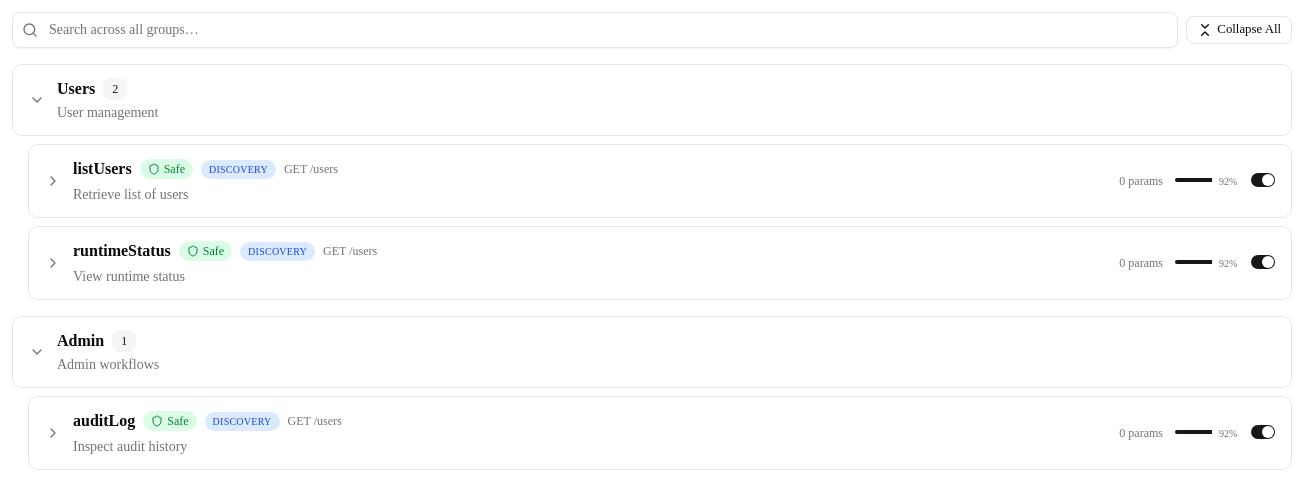
Test case: ToolGroupView › filters operations by name or description and shows the search empty state
Type "audit" into the field with placeholder "Search across all groups…" at (595, 30), box left=12, top=12, right=1178, bottom=48
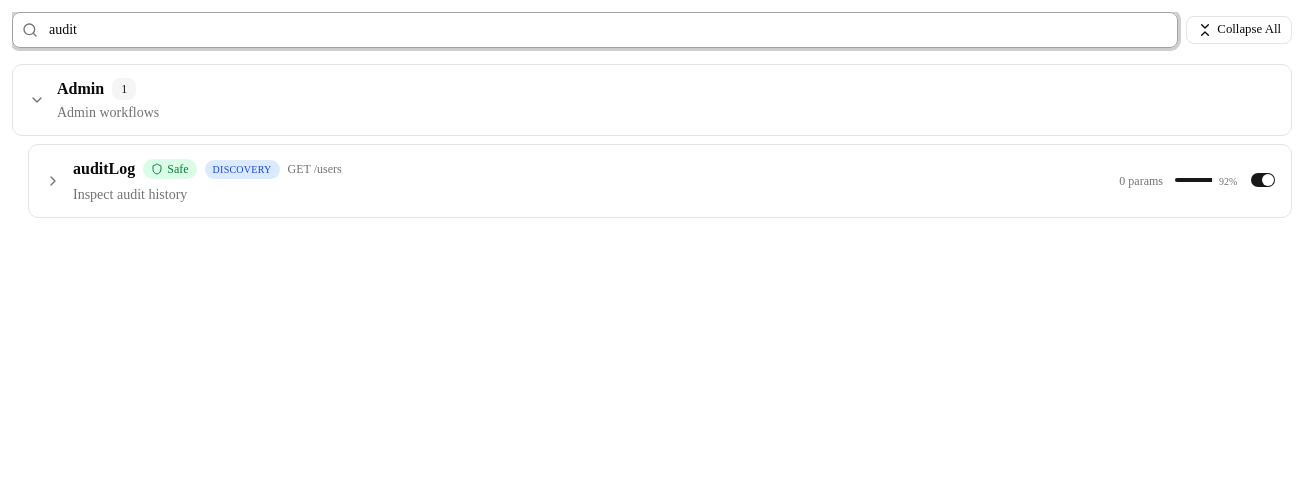
expect the text "auditLog" is shown: met, box left=73, top=157, right=135, bottom=181
expect the button "listUsers" is gone: met
Replace the text in the field with placeholder "Search across all groups…" with "runtime" at (595, 30), box left=12, top=12, right=1178, bottom=48
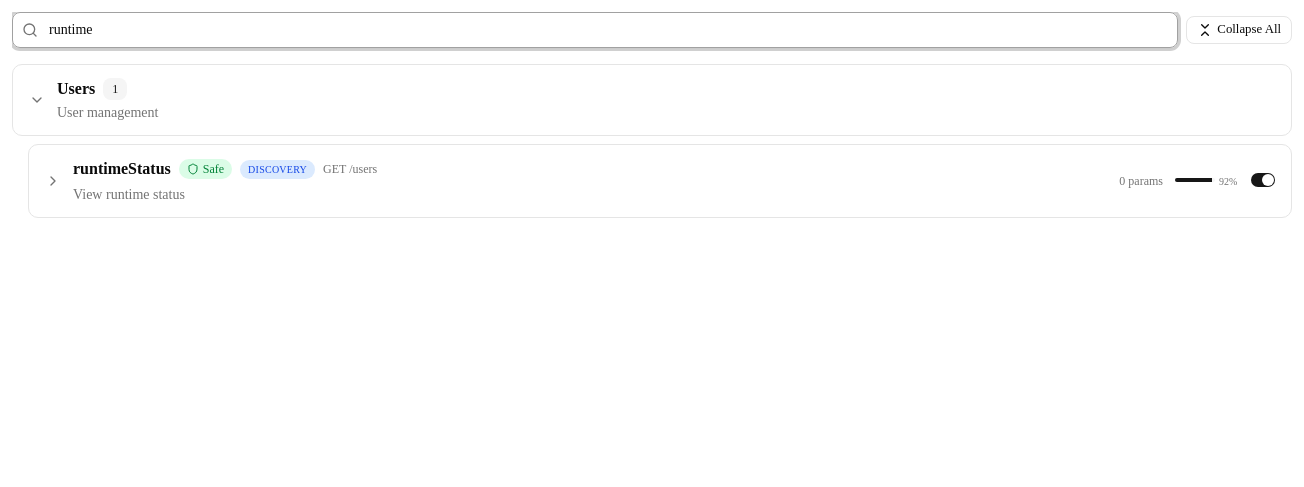
expect the button "auditLog" is not shown: met
expect the text "runtimeStatus" is shown: met, box left=73, top=157, right=171, bottom=181
Replace the text in the field with placeholder "Search across all groups…" with "missing" at (595, 30), box left=12, top=12, right=1178, bottom=48
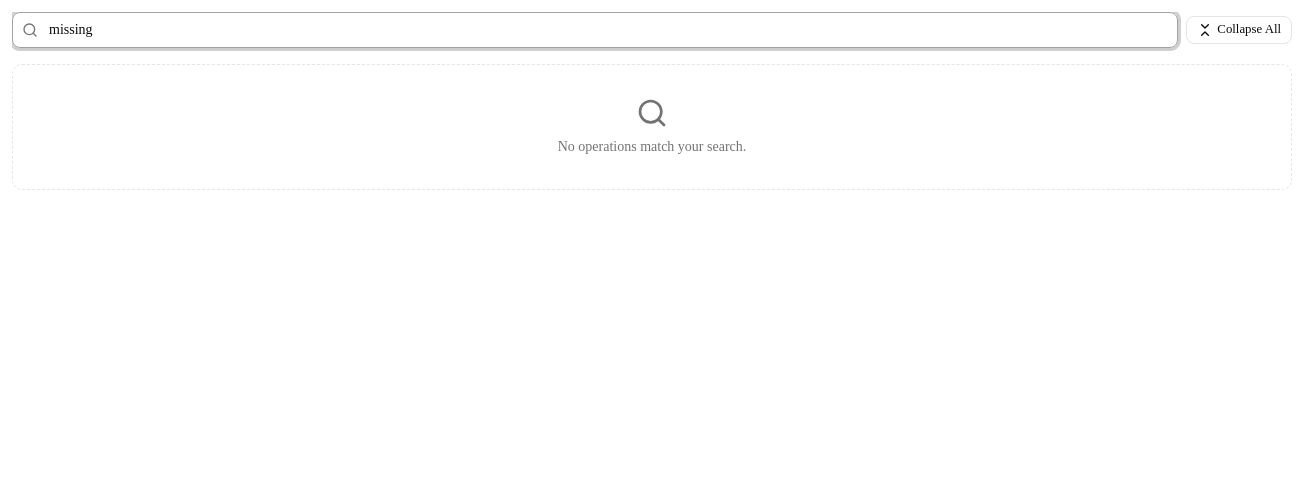
expect the text "No operations match your search." is shown: met, box left=558, top=139, right=746, bottom=154
